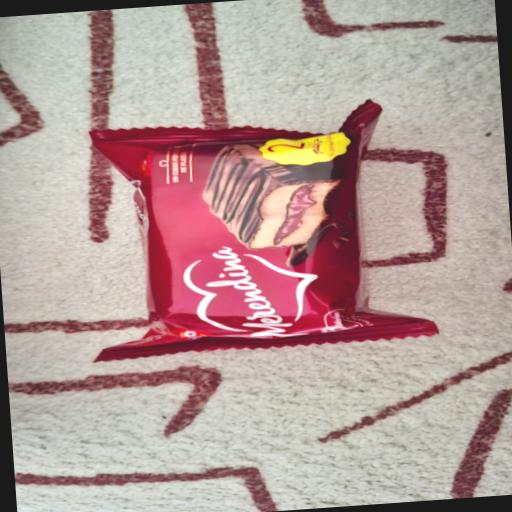merendina: (60, 75, 477, 406)
